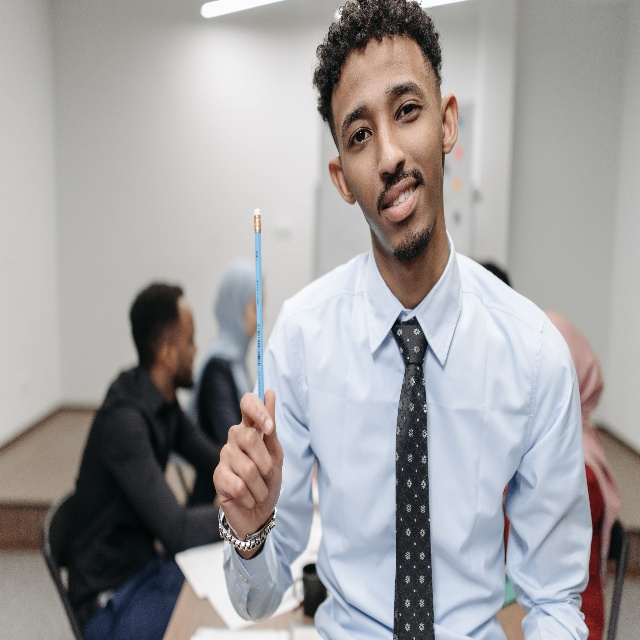Sin_guantes: (213, 393, 290, 538)
